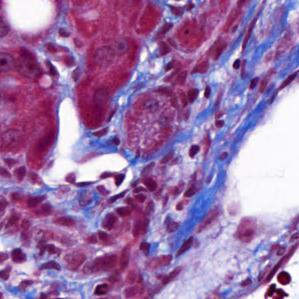inflammation: (263, 269, 292, 299), (98, 171, 128, 197)
